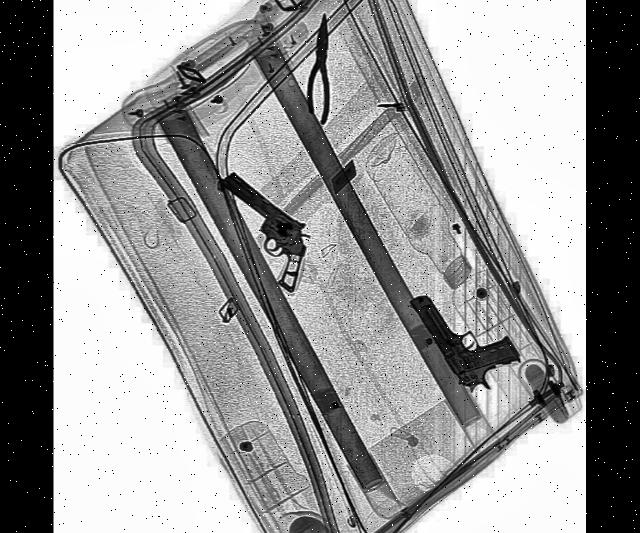Gun: (407, 248, 522, 408), (202, 164, 319, 296)
Pliers: (306, 8, 333, 124)
